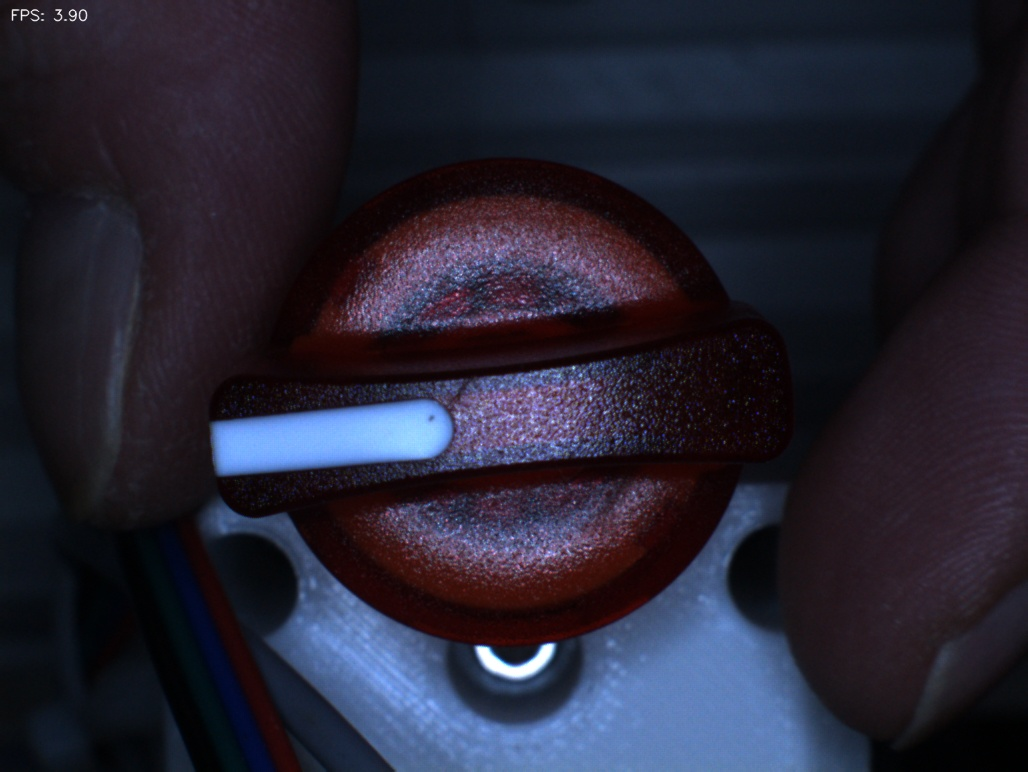PointNoir: (399, 386, 459, 449)
